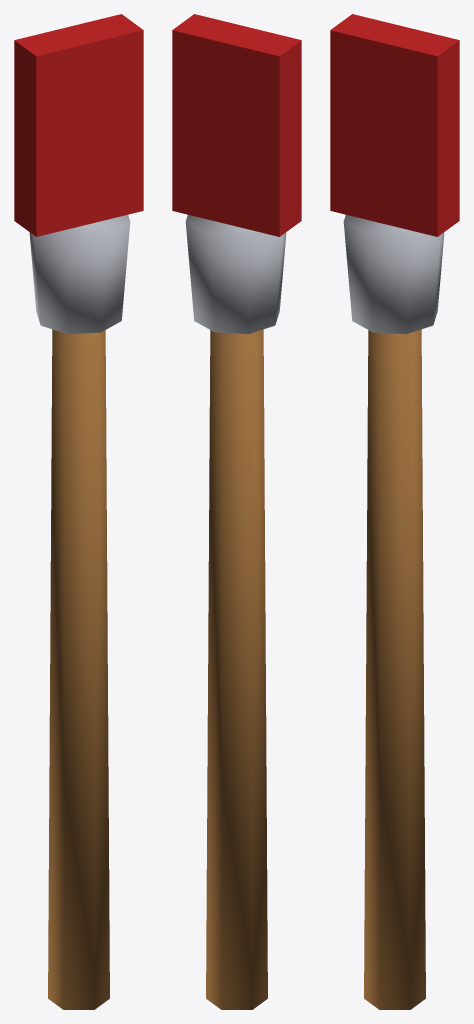
File: paintbrush.glb
3 views of the same model, side by side, from view 1: azimuth 30°, elevation 25°; view 2: azimuth 150°, elevation 25°; view 3: azimuth 330°, elevation 25° (orthographic).
Visible parts, largest first — view 1: paintbrush_v0; view 2: paintbrush_v0; view 3: paintbrush_v0.
Part boxes in pixels (x1=…): paintbrush_v0: x1=14, y1=14, x2=143, y2=1009; paintbrush_v0: x1=172, y1=14, x2=301, y2=1009; paintbrush_v0: x1=330, y1=14, x2=459, y2=1009.
Size of the model in its own units: 0.056 by 0.48 by 0.048.
